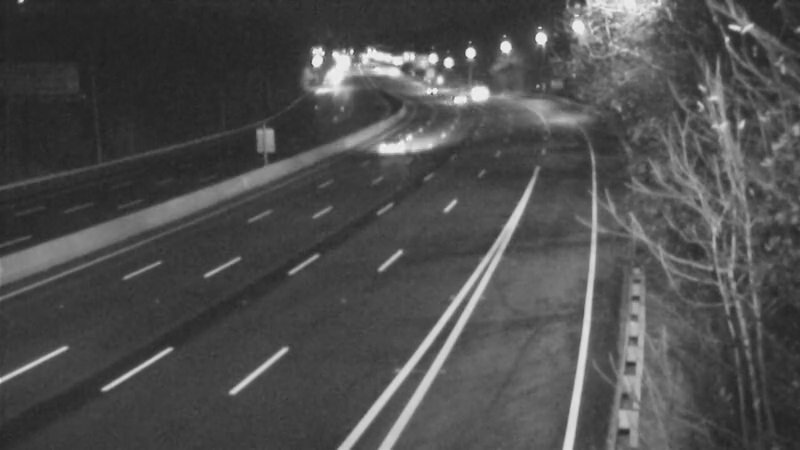vehicle: (449, 65, 499, 115), (409, 62, 459, 112), (429, 74, 479, 124), (370, 125, 420, 175)
